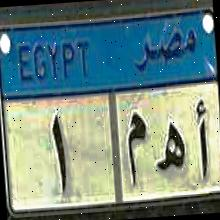1: (49, 113, 69, 192)
alif: (190, 94, 215, 180)
haa: (153, 117, 190, 177)
meem: (121, 107, 153, 193)
